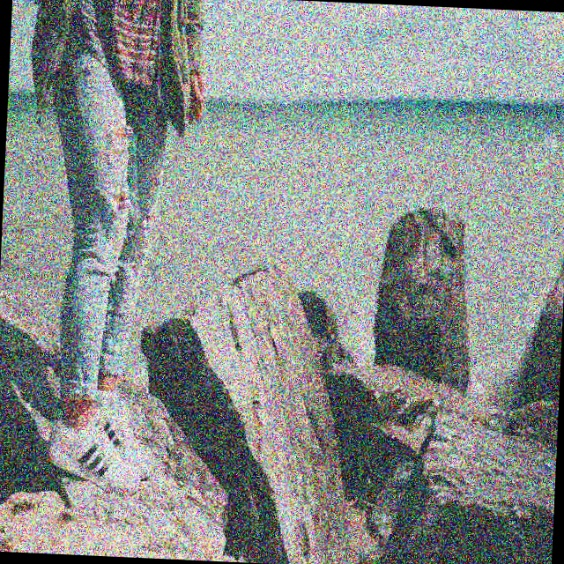ripped_pants: (41, 8, 174, 407)
